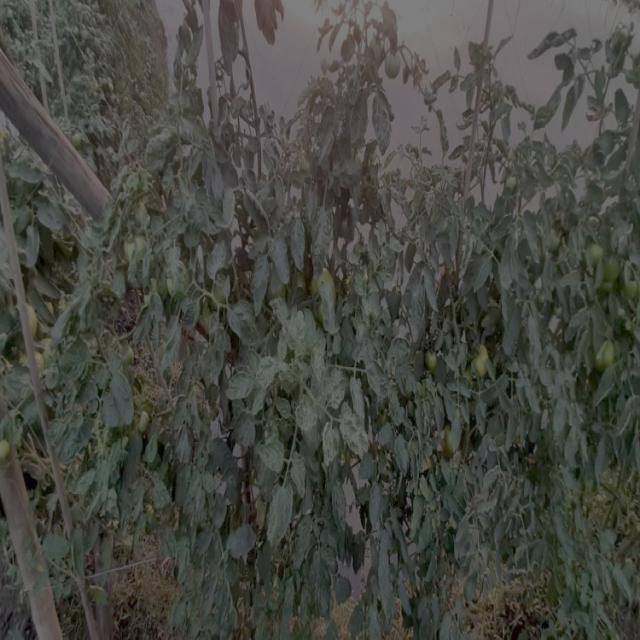tomato: (16, 301, 50, 341), (309, 267, 338, 309), (122, 231, 152, 268), (471, 338, 493, 379), (596, 339, 621, 375), (605, 260, 627, 298), (503, 169, 525, 200), (22, 348, 48, 374), (131, 406, 150, 440), (625, 255, 640, 297), (545, 224, 564, 251), (424, 351, 443, 375), (587, 241, 605, 265), (3, 438, 14, 465)
